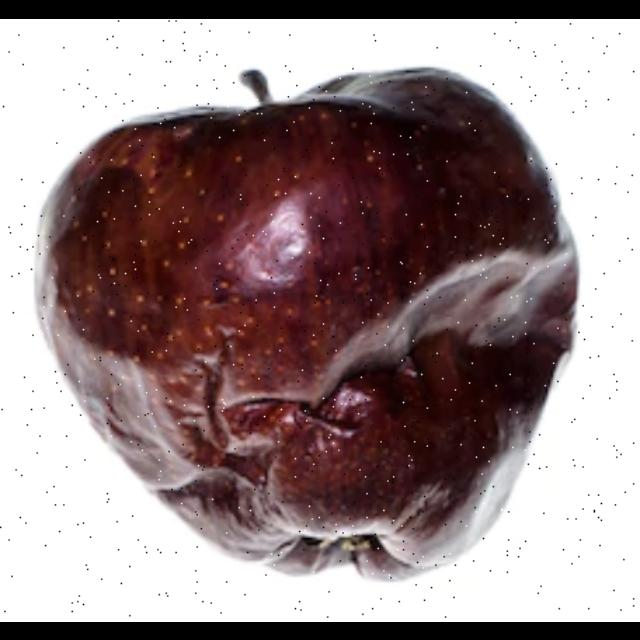Apel Tidak Segar: (29, 53, 585, 590)
